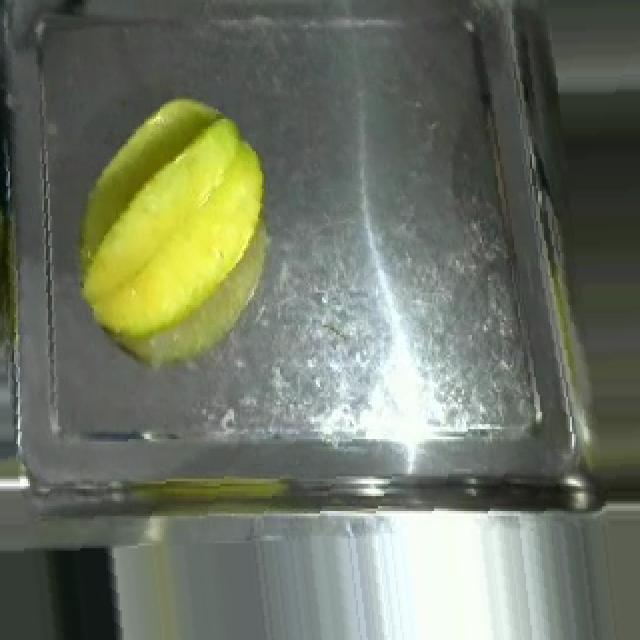fruit: (68, 82, 278, 355)
